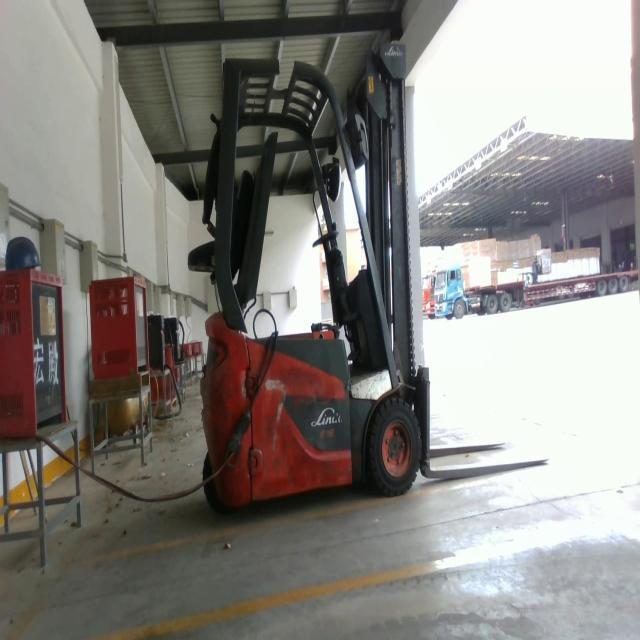forklift: (187, 39, 551, 519)
